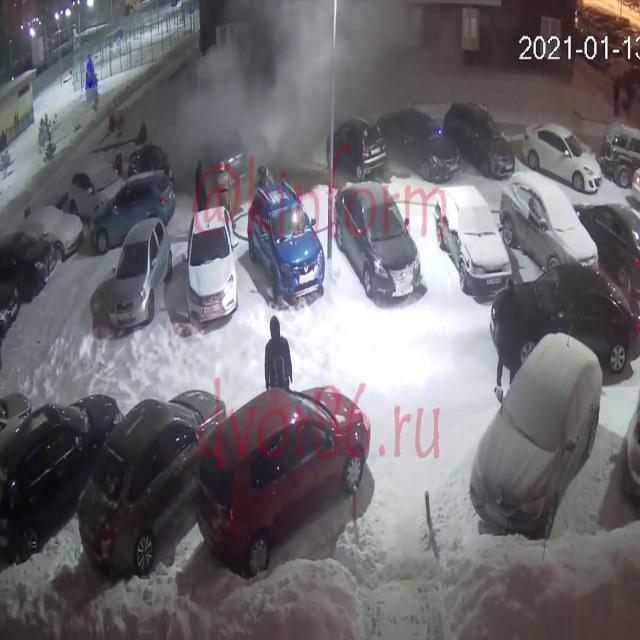Smoke: (168, 1, 426, 170)
